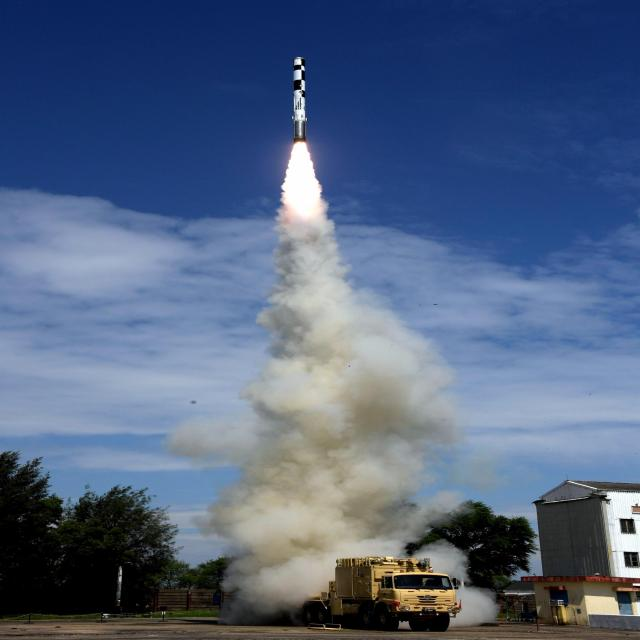rocket: (282, 56, 329, 257)
